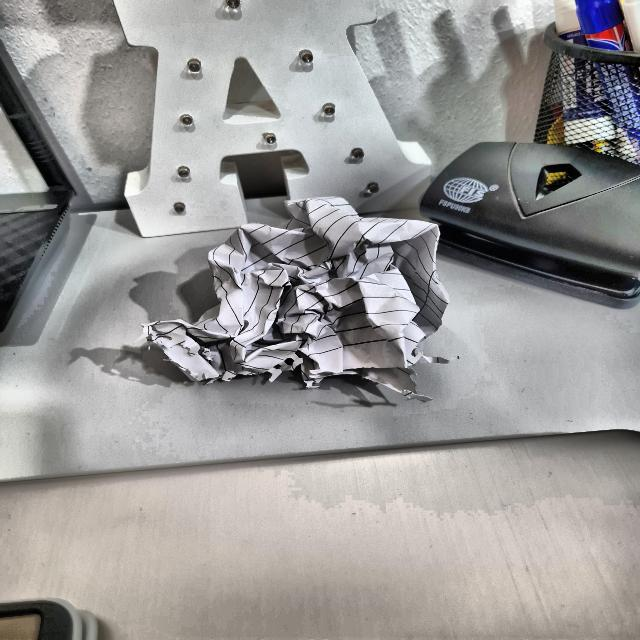Paper: (168, 194, 443, 389)
